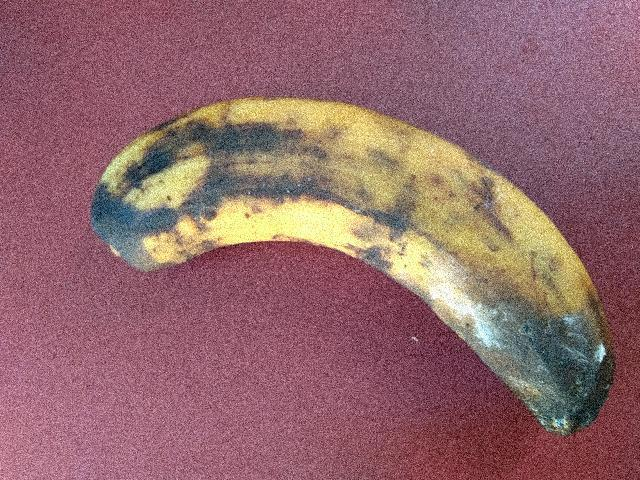rotten: (78, 72, 639, 455)
